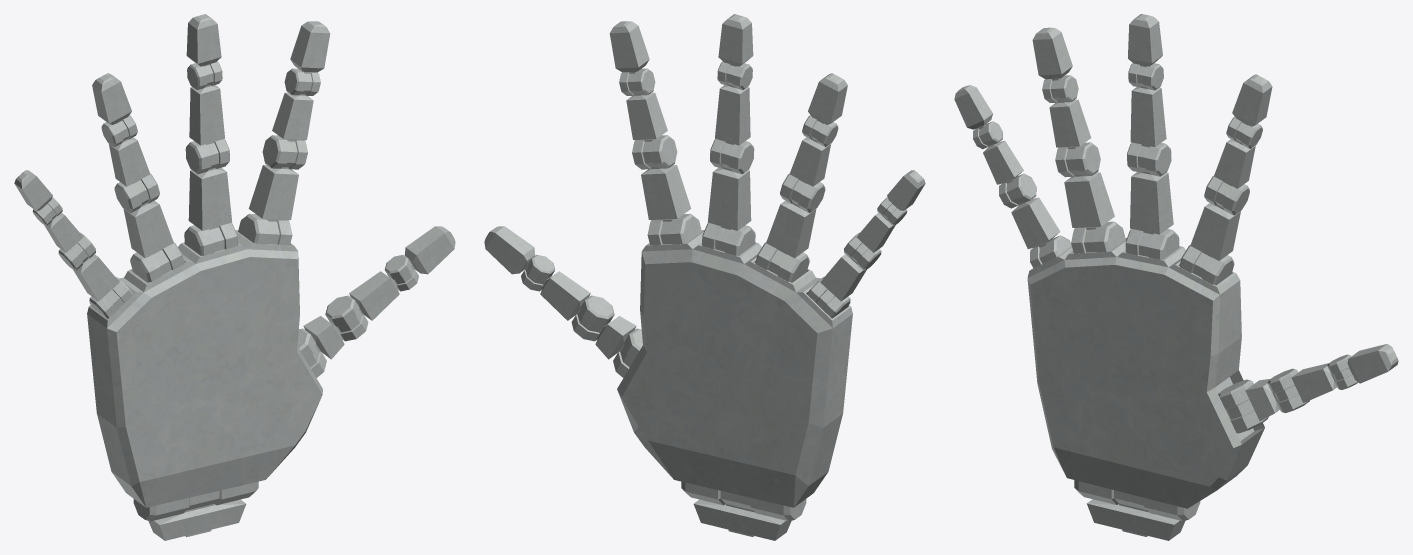
File: robotic-hand-draco.glb
3 renders of one model, left to right at view 1: azimuth 30°, elevation 25°; view 2: azimuth 150°, elevation 25°; view 3: azimuth 330°, elevation 25°, orthographic.
Visible parts, largest first — view 1: Palm, Wrist, Phalanx_Middle_1, Phalanx_Index_1, Phalanx_Ring_1, Phalanx_Middle_2, Phalanx_Index_2, Phalanx_Thumb_2, Phalanx_Ring_2, Phalanx_Index_3, Phalanx_Thumb_3, Phalanx_Middle_3 (+5 smaller); view 2: Palm, Wrist, Phalanx_Middle_1, Phalanx_Index_1, Phalanx_Ring_1, Phalanx_Middle_2, Phalanx_Index_2, Phalanx_Thumb_2, Phalanx_Ring_2, Phalanx_Index_3, Phalanx_Thumb_3, Phalanx_Middle_3 (+5 smaller); view 3: Palm, Wrist, Phalanx_Middle_1, Phalanx_Ring_1, Phalanx_Index_1, Phalanx_Middle_2, Phalanx_Ring_2, Phalanx_Index_2, Phalanx_Ring_3, Phalanx_Middle_3, Phalanx_Little_1, Phalanx_Thumb_1 (+5 smaller).
Boxes of the visible parts, x1=… form: Palm: x1=87, y1=230, x2=322, y2=507; Wrist: x1=133, y1=481, x2=258, y2=540; Phalanx_Middle_1: x1=184, y1=167, x2=237, y2=255; Phalanx_Index_1: x1=238, y1=165, x2=298, y2=245; Phalanx_Ring_1: x1=123, y1=200, x2=184, y2=282; Phalanx_Middle_2: x1=185, y1=85, x2=229, y2=174; Phalanx_Index_2: x1=262, y1=92, x2=313, y2=169; Phalanx_Thumb_2: x1=325, y1=271, x2=399, y2=341; Phalanx_Ring_2: x1=109, y1=137, x2=159, y2=213; Phalanx_Index_3: x1=284, y1=21, x2=330, y2=95; Phalanx_Thumb_3: x1=384, y1=226, x2=455, y2=291; Phalanx_Middle_3: x1=186, y1=14, x2=222, y2=89; Palm: x1=617, y1=230, x2=852, y2=507; Wrist: x1=681, y1=481, x2=806, y2=540; Phalanx_Middle_1: x1=702, y1=167, x2=755, y2=255; Phalanx_Index_1: x1=641, y1=165, x2=701, y2=245; Phalanx_Ring_1: x1=755, y1=200, x2=816, y2=282; Phalanx_Middle_2: x1=710, y1=85, x2=754, y2=174; Phalanx_Index_2: x1=626, y1=92, x2=677, y2=169; Phalanx_Thumb_2: x1=540, y1=271, x2=614, y2=341; Phalanx_Ring_2: x1=780, y1=137, x2=830, y2=213; Phalanx_Index_3: x1=609, y1=21, x2=655, y2=95; Phalanx_Thumb_3: x1=484, y1=226, x2=555, y2=291; Phalanx_Middle_3: x1=717, y1=14, x2=753, y2=89; Palm: x1=1027, y1=238, x2=1264, y2=508; Wrist: x1=1074, y1=480, x2=1200, y2=540; Phalanx_Middle_1: x1=1125, y1=171, x2=1179, y2=259; Phalanx_Ring_1: x1=1064, y1=172, x2=1125, y2=253; Phalanx_Index_1: x1=1179, y1=203, x2=1240, y2=285; Phalanx_Middle_2: x1=1127, y1=86, x2=1171, y2=176; Phalanx_Ring_2: x1=1049, y1=99, x2=1100, y2=177; Phalanx_Index_2: x1=1204, y1=139, x2=1255, y2=215; Phalanx_Ring_3: x1=1032, y1=27, x2=1078, y2=102; Phalanx_Middle_3: x1=1128, y1=14, x2=1163, y2=90; Phalanx_Little_1: x1=1011, y1=197, x2=1071, y2=268; Phalanx_Thumb_1: x1=1218, y1=378, x2=1279, y2=433.
Bounding box in the file's own units: 3.61 × 4.08 × 0.4601.
1 material, 1 textured.
